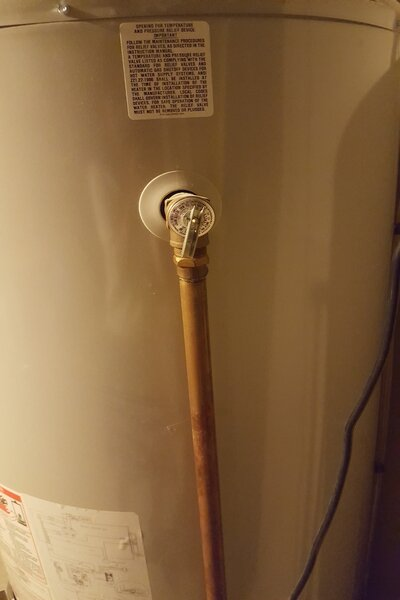valve: (161, 189, 220, 276)
